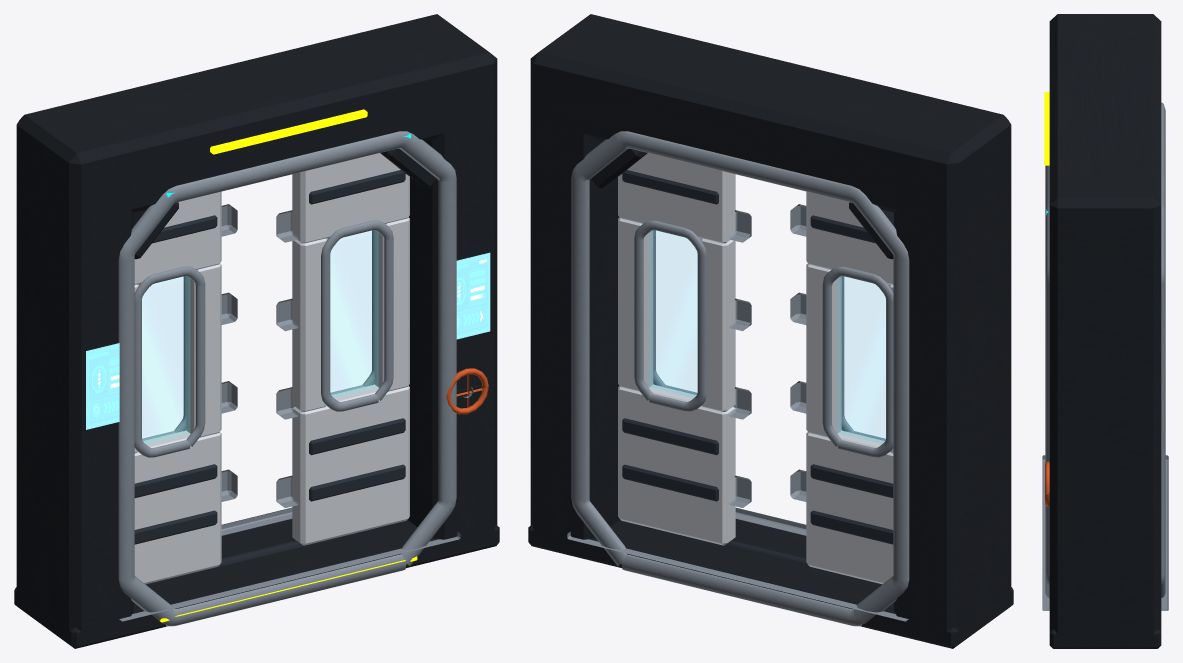
Rendered from corridor_door_r1_04.glb.
The picture shows the model from 3 angles, left to right: view 1: azimuth 30°, elevation 25°; view 2: azimuth 150°, elevation 25°; view 3: azimuth 270°, elevation 25°; orthographic projection. The views are drawn at different scales.
Parts seen in each view (by area): view 1: Corridor04_HexagonalGunmetalBulkhead, Corridor04_WhiteWedgeBladeLeaves, Corridor04_MachinedShearTeethAndSill, Corridor04_TranslucentWedgeWindows, Corridor04_CarbonSlateHexRibs, Corridor04_DualSideOLEDStatus, Corridor04_AmberHexBeaconLED, Corridor04_SignalOrangeOverrideWheel, Corridor04_CharcoalHexSeal; view 2: Corridor04_HexagonalGunmetalBulkhead, Corridor04_WhiteWedgeBladeLeaves, Corridor04_MachinedShearTeethAndSill, Corridor04_TranslucentWedgeWindows, Corridor04_CarbonSlateHexRibs, Corridor04_CharcoalHexSeal; view 3: Corridor04_HexagonalGunmetalBulkhead, Corridor04_MachinedShearTeethAndSill, Corridor04_AmberHexBeaconLED, Corridor04_SignalOrangeOverrideWheel.
Boxes of the visible parts, bbox=[...] form: Corridor04_HexagonalGunmetalBulkhead: bbox=[14, 14, 499, 648]; Corridor04_WhiteWedgeBladeLeaves: bbox=[134, 153, 409, 584]; Corridor04_MachinedShearTeethAndSill: bbox=[118, 131, 473, 626]; Corridor04_TranslucentWedgeWindows: bbox=[142, 231, 377, 443]; Corridor04_CarbonSlateHexRibs: bbox=[134, 170, 405, 544]; Corridor04_DualSideOLEDStatus: bbox=[86, 252, 490, 429]; Corridor04_AmberHexBeaconLED: bbox=[160, 109, 417, 622]; Corridor04_SignalOrangeOverrideWheel: bbox=[446, 368, 488, 414]; Corridor04_CharcoalHexSeal: bbox=[146, 526, 384, 584]; Corridor04_HexagonalGunmetalBulkhead: bbox=[528, 14, 1013, 648]; Corridor04_WhiteWedgeBladeLeaves: bbox=[618, 153, 893, 584]; Corridor04_MachinedShearTeethAndSill: bbox=[567, 131, 909, 626]; Corridor04_TranslucentWedgeWindows: bbox=[650, 231, 885, 443]; Corridor04_CarbonSlateHexRibs: bbox=[622, 170, 893, 544]; Corridor04_CharcoalHexSeal: bbox=[643, 526, 881, 584]; Corridor04_HexagonalGunmetalBulkhead: bbox=[1049, 14, 1161, 648]; Corridor04_MachinedShearTeethAndSill: bbox=[1042, 102, 1168, 610]; Corridor04_AmberHexBeaconLED: bbox=[1044, 92, 1049, 165]; Corridor04_SignalOrangeOverrideWheel: bbox=[1045, 461, 1049, 506].
Bounding box in the file's own units: 2.5 × 2.75 × 0.7.
10 materials, 10 textured.
